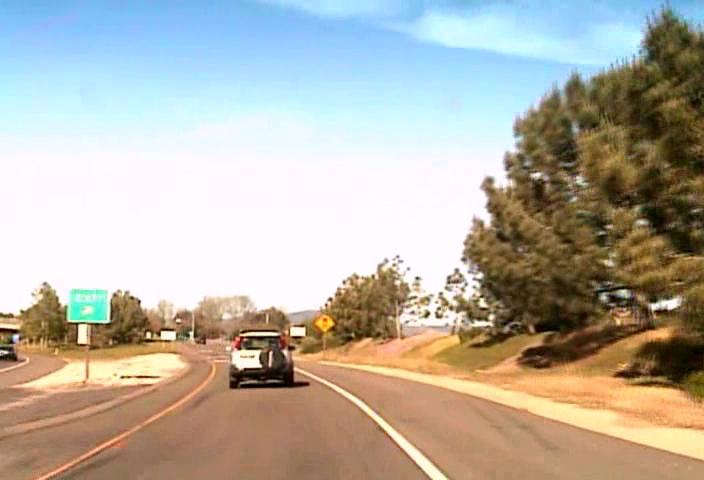signalAhead: (314, 313, 334, 332)
